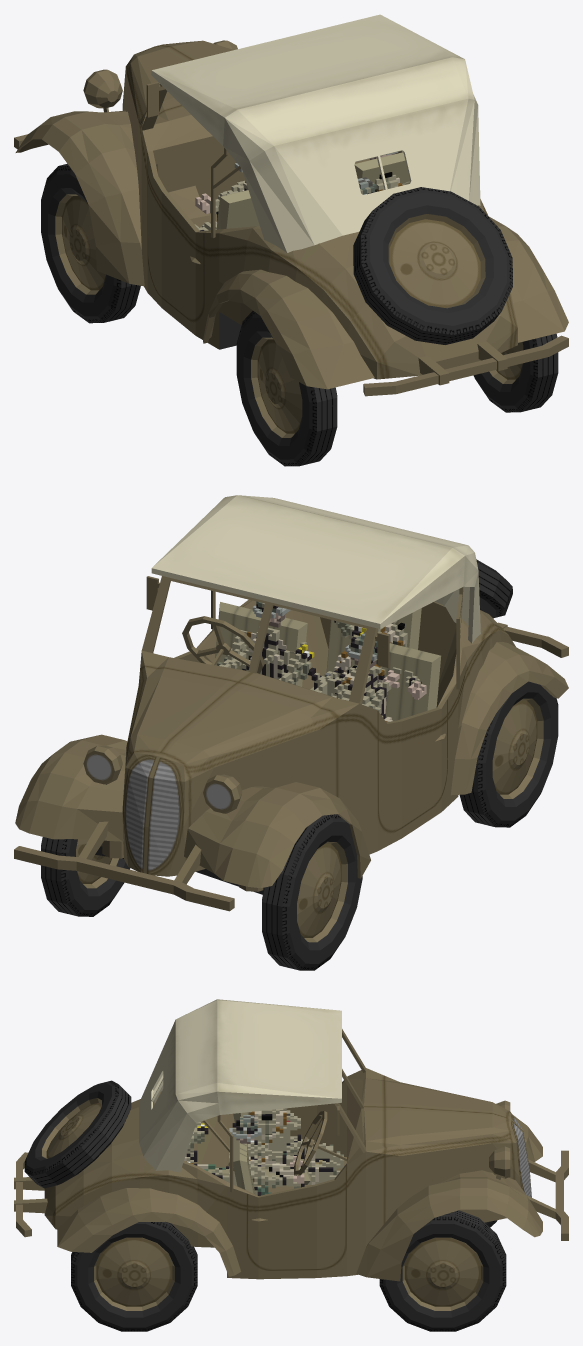
Rendered from jeep1.glb.
The picture shows the model from 3 angles, top to bottom: view 1: azimuth 30°, elevation 25°; view 2: azimuth 150°, elevation 25°; view 3: azimuth 270°, elevation 25°; orthographic projection. The views are drawn at different scales.
Parts seen in each view (by area): view 1: 00_chassis_kurogane_chassis.mesh, 04_tire_index_2_kurogane_wheel.mesh, 02_tire_index_0_kurogane_wheel.mesh, 05_tire_index_3_kurogane_wheel.mesh, crew_soldier_SLOT_01_PASSENGER; view 2: 00_chassis_kurogane_chassis.mesh, 02_tire_index_0_kurogane_wheel.mesh, 04_tire_index_2_kurogane_wheel.mesh, 03_tire_index_1_kurogane_wheel.mesh, crew_soldier_SLOT_00_DRIVER, crew_soldier_SLOT_01_PASSENGER, crew_soldier_SLOT_02_PASSENGER; view 3: 00_chassis_kurogane_chassis.mesh, 03_tire_index_1_kurogane_wheel.mesh, 05_tire_index_3_kurogane_wheel.mesh, crew_soldier_SLOT_01_PASSENGER, crew_soldier_SLOT_00_DRIVER, crew_soldier_SLOT_02_PASSENGER.
Part boxes in pixels (box(x1,y1,x2,y2)): 00_chassis_kurogane_chassis.mesh: box(14, 14, 568, 396); 04_tire_index_2_kurogane_wheel.mesh: box(236, 311, 337, 466); 02_tire_index_0_kurogane_wheel.mesh: box(41, 163, 140, 323); 05_tire_index_3_kurogane_wheel.mesh: box(473, 333, 558, 412); crew_soldier_SLOT_01_PASSENGER: box(194, 162, 248, 231); 00_chassis_kurogane_chassis.mesh: box(14, 495, 568, 911); 02_tire_index_0_kurogane_wheel.mesh: box(262, 814, 362, 970); 04_tire_index_2_kurogane_wheel.mesh: box(459, 681, 558, 827); 03_tire_index_1_kurogane_wheel.mesh: box(41, 837, 130, 916); crew_soldier_SLOT_00_DRIVER: box(217, 601, 314, 685); crew_soldier_SLOT_01_PASSENGER: box(334, 631, 426, 722); crew_soldier_SLOT_02_PASSENGER: box(307, 620, 407, 698); 00_chassis_kurogane_chassis.mesh: box(14, 999, 568, 1281); 03_tire_index_1_kurogane_wheel.mesh: box(379, 1210, 506, 1331); 05_tire_index_3_kurogane_wheel.mesh: box(71, 1222, 197, 1331); crew_soldier_SLOT_01_PASSENGER: box(249, 1108, 344, 1188); crew_soldier_SLOT_00_DRIVER: box(229, 1115, 304, 1195); crew_soldier_SLOT_02_PASSENGER: box(184, 1122, 236, 1185).
Size of the model in its own units: 2.14 by 2.35 by 4.86.
37 materials, 1 textured.
